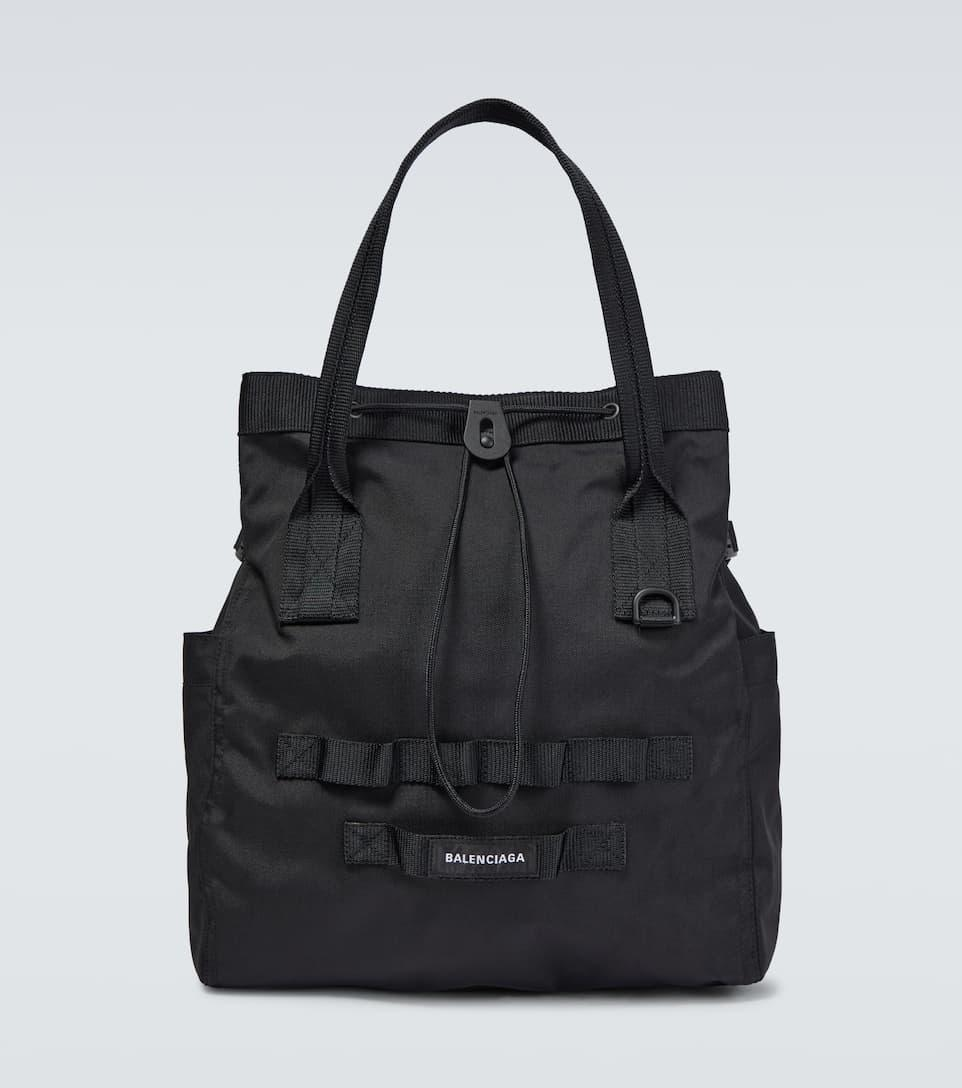BALENCIAGA: (445, 853, 525, 865)
